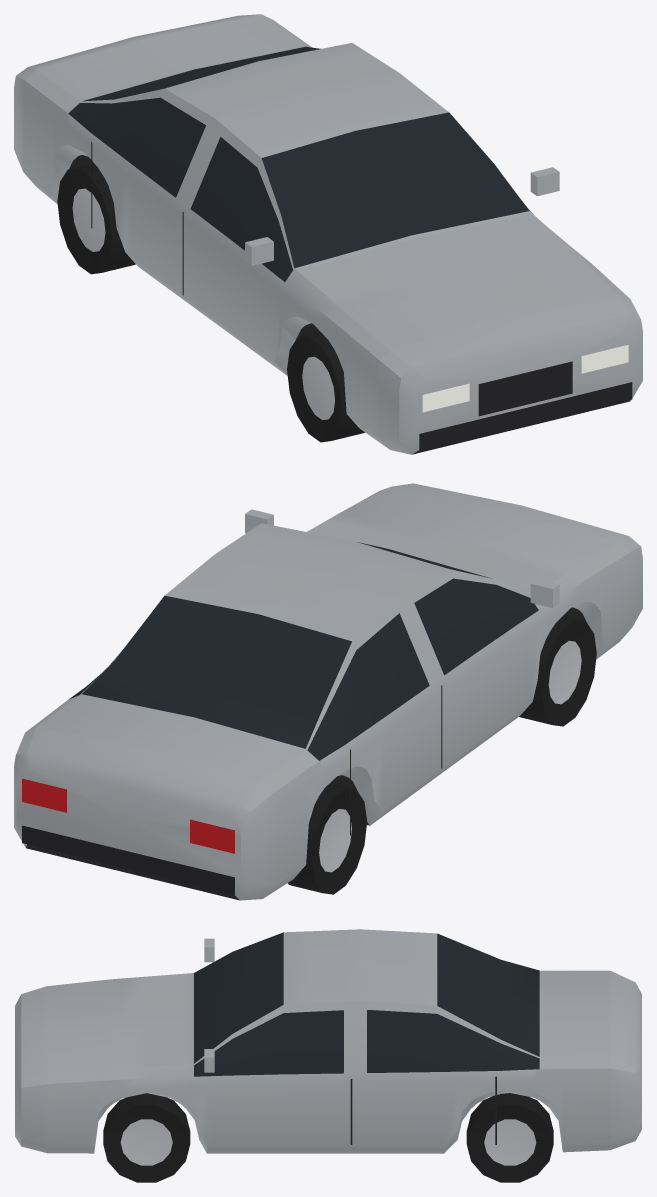
File: seattle_sedan.glb
3 views of the same model, one above another, from view 1: azimuth 30°, elevation 25°; view 2: azimuth 150°, elevation 25°; view 3: azimuth 270°, elevation 25° (orthographic). The views are drawn at different scales.
Parts seen in each view (by area): view 1: seattle_sedan; view 2: seattle_sedan; view 3: seattle_sedan.
Boxes of the visible parts, x1,y1,x2,y2 form: seattle_sedan: (14,14,642,454); seattle_sedan: (14,483,642,900); seattle_sedan: (15,929,641,1182).
Size of the model in its own units: 2.2 by 1.48 by 4.91.
Materials: 1 (1 with a texture image).
